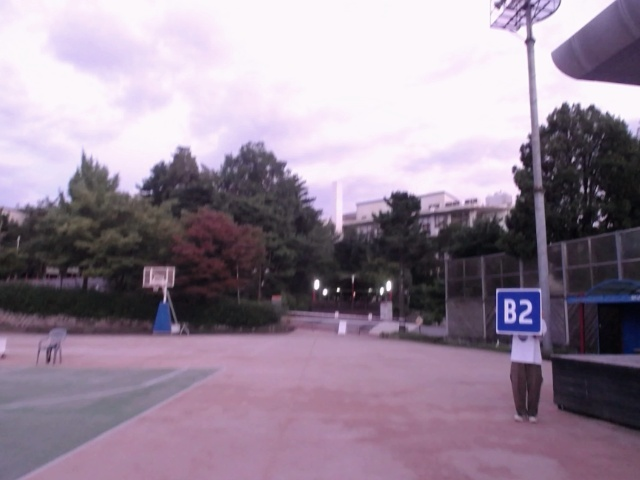delivery_b2: (494, 287, 543, 335)
